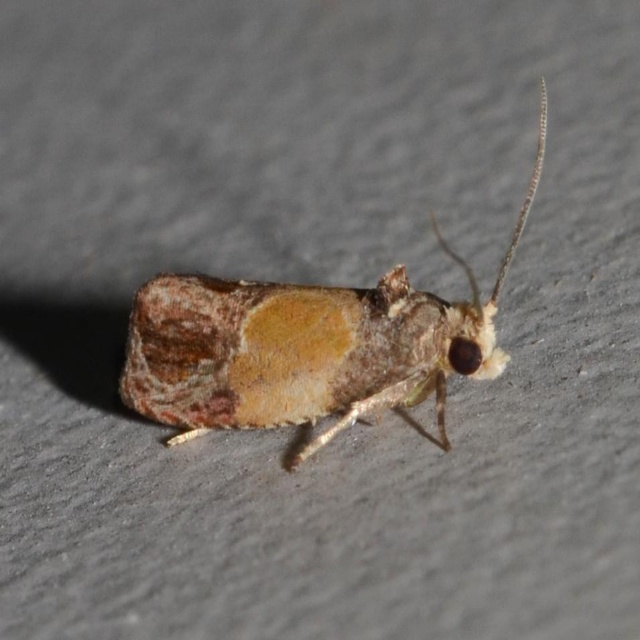Moths and butterflies: (114, 76, 550, 474)
